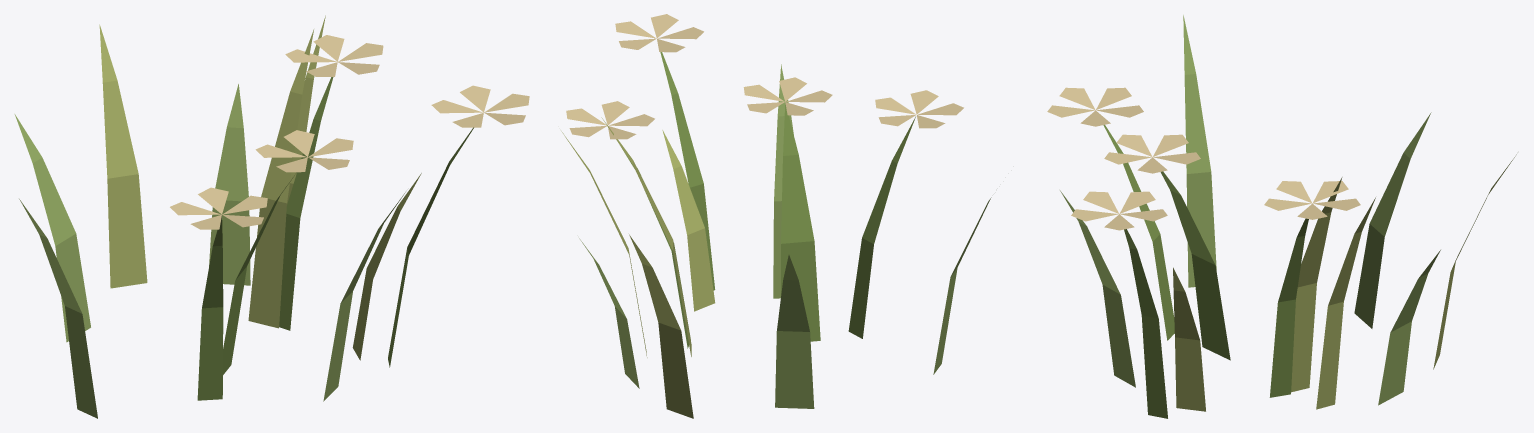
The model's file is SM_WL_NG_MeadowHerbs.fbx.
3 renders of one model, left to right at view 1: azimuth 30°, elevation 25°; view 2: azimuth 150°, elevation 25°; view 3: azimuth 270°, elevation 25°, orthographic. The views are drawn at different scales.
Visible parts, largest first — view 1: HH_Q2_MeadowHerbs; view 2: HH_Q2_MeadowHerbs; view 3: HH_Q2_MeadowHerbs.
Part boxes in pixels (left/top/right/bottom): HH_Q2_MeadowHerbs: left=14, top=15, right=529, bottom=418; HH_Q2_MeadowHerbs: left=561, top=14, right=991, bottom=418; HH_Q2_MeadowHerbs: left=1047, top=15, right=1516, bottom=418.
Bounding box in the file's own units: 0.5215 × 0.5873 × 0.3054.
